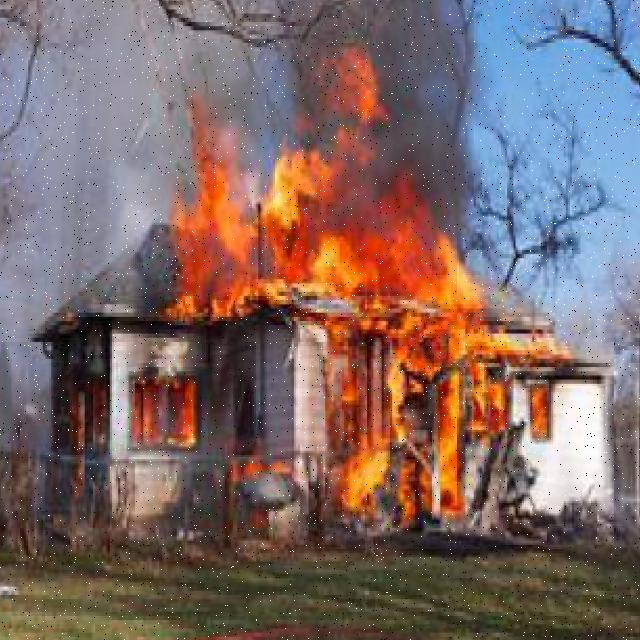fire: (164, 137, 547, 526)
smoke: (326, 0, 493, 239)
